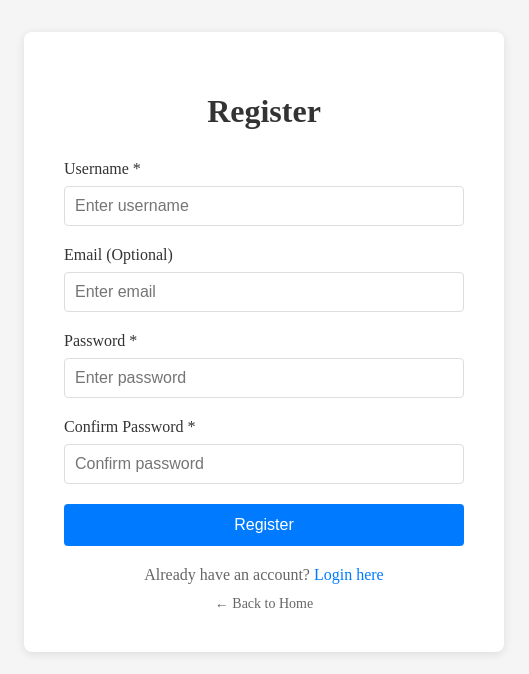
Frontend Tests › Register Page › should validate password match
Type "testuser" into the field with placeholder "Enter username". click: (264, 206)
box: x1=64 y1=186 x2=464 y2=226
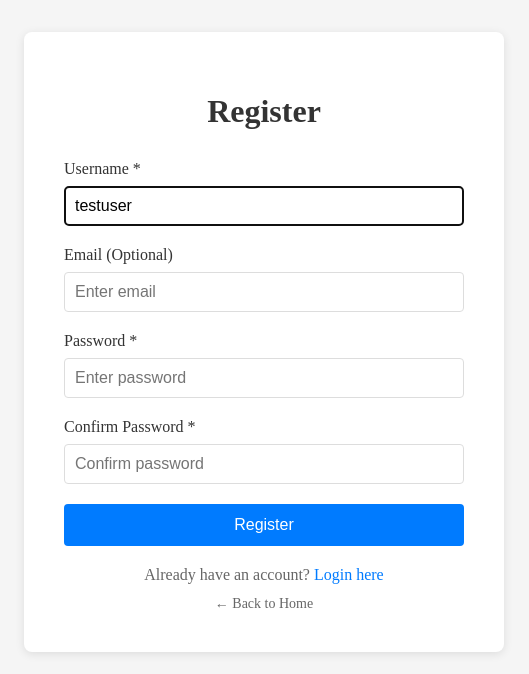
Type "password123" into the password field with placeholder "Enter password". click: (264, 378)
box: x1=64 y1=358 x2=464 y2=398
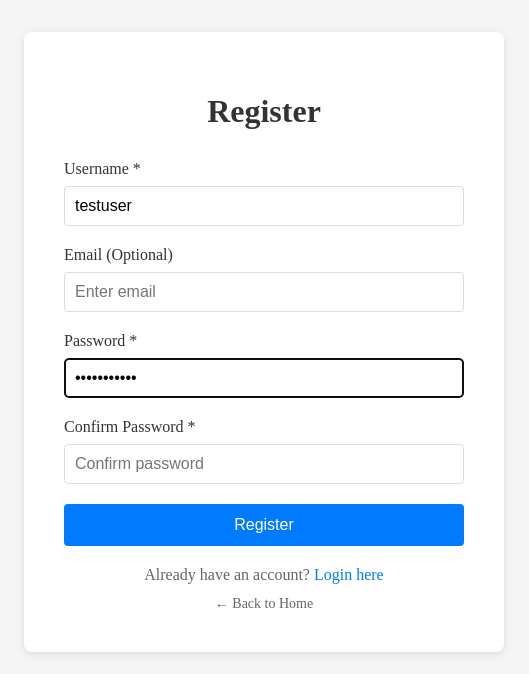
Type "password456" into the password field with placeholder "Confirm password". click: (264, 464)
box: x1=64 y1=444 x2=464 y2=484
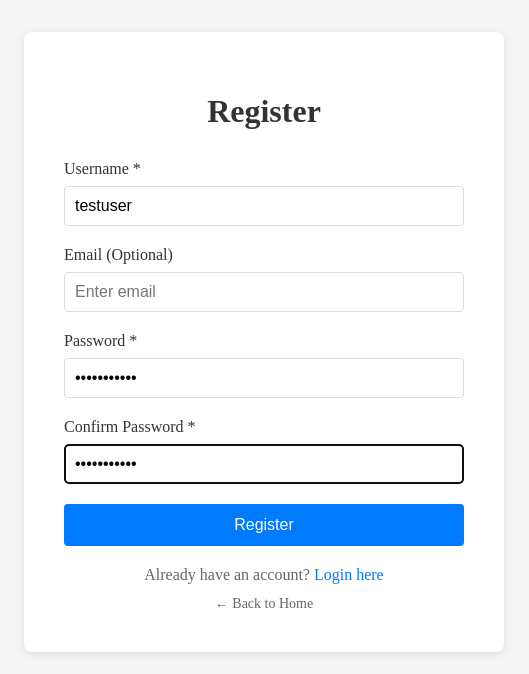
Click the button "Register". click: click(264, 525)
box: x1=64 y1=504 x2=464 y2=546
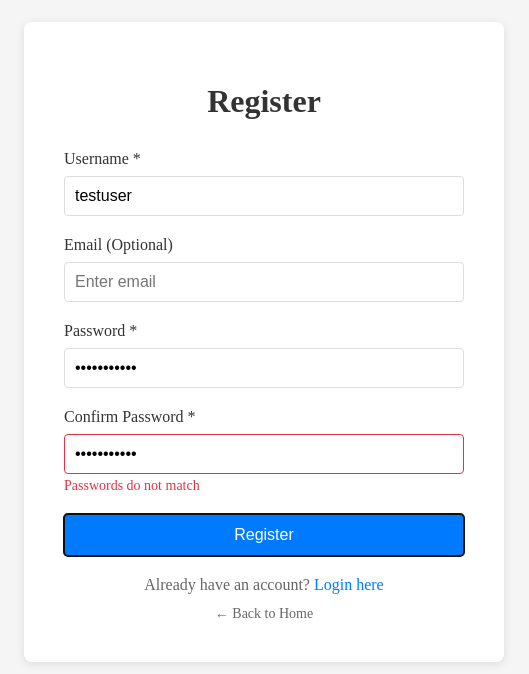
Now the text "Passwords do not match" is shown, box x1=64 y1=478 x2=200 y2=493
